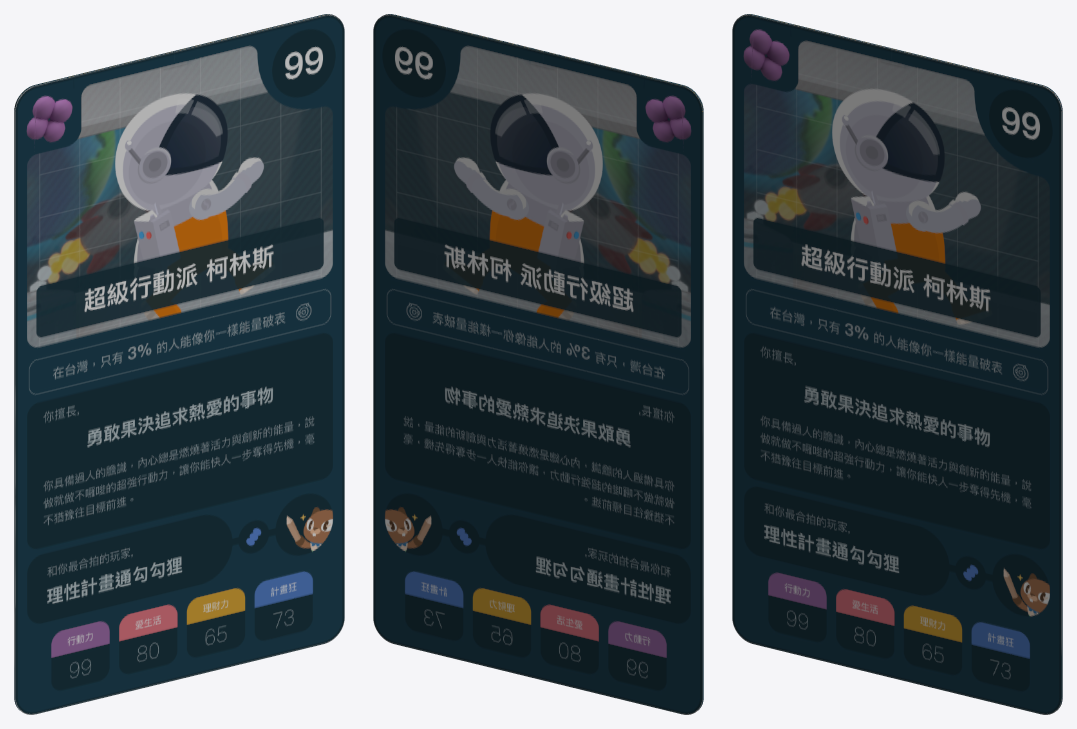
Rendered from Infinite_Light.glb.
3 renders of one model, left to right at view 1: azimuth 30°, elevation 25°; view 2: azimuth 150°, elevation 25°; view 3: azimuth 330°, elevation 25°, orthographic.
Visible parts, largest first — view 1: 形狀_1_4; view 2: 形狀_1_4; view 3: 形狀_1_4.
Boxes of the visible parts, <box> form: 形狀_1_4: <box>14,14,344,714</box>; 形狀_1_4: <box>373,14,703,714</box>; 形狀_1_4: <box>732,14,1062,714</box>.
Bounding box in the file's own units: 1.5 × 2.74 × 0.00806.
Materials: 1 (1 with a texture image).
